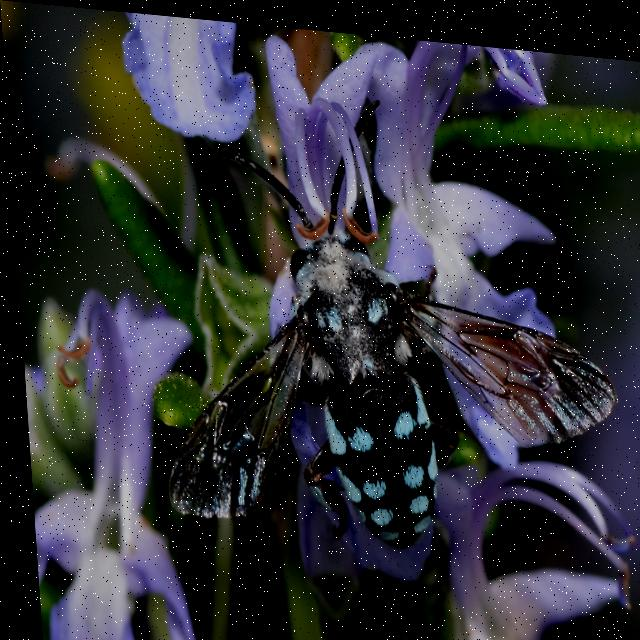Thyreus: (136, 65, 624, 565)
